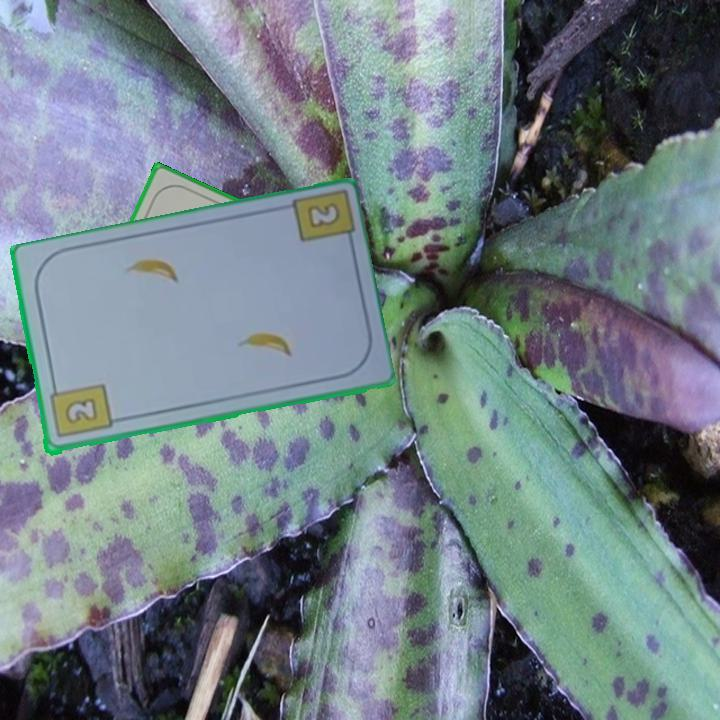2b: (45, 380, 114, 442), (307, 202, 340, 229)
